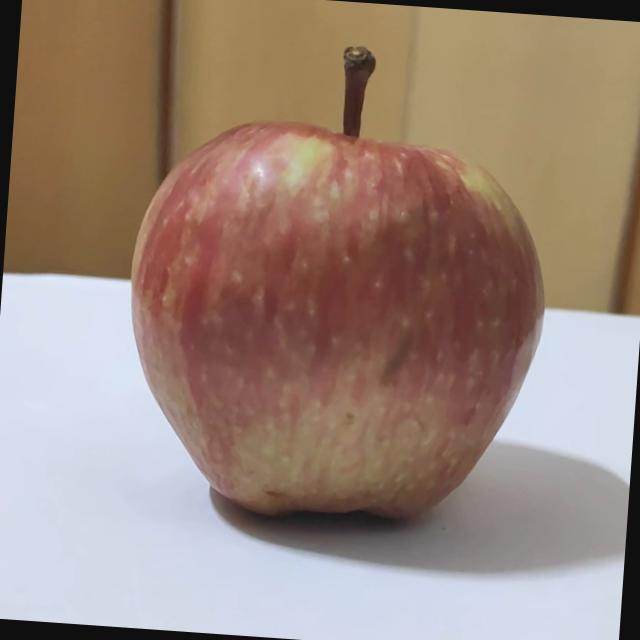apple: (114, 22, 564, 530)
